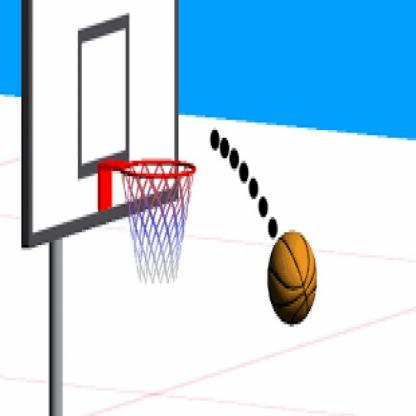basketball: (267, 227, 319, 332)
rim: (122, 156, 197, 184)
